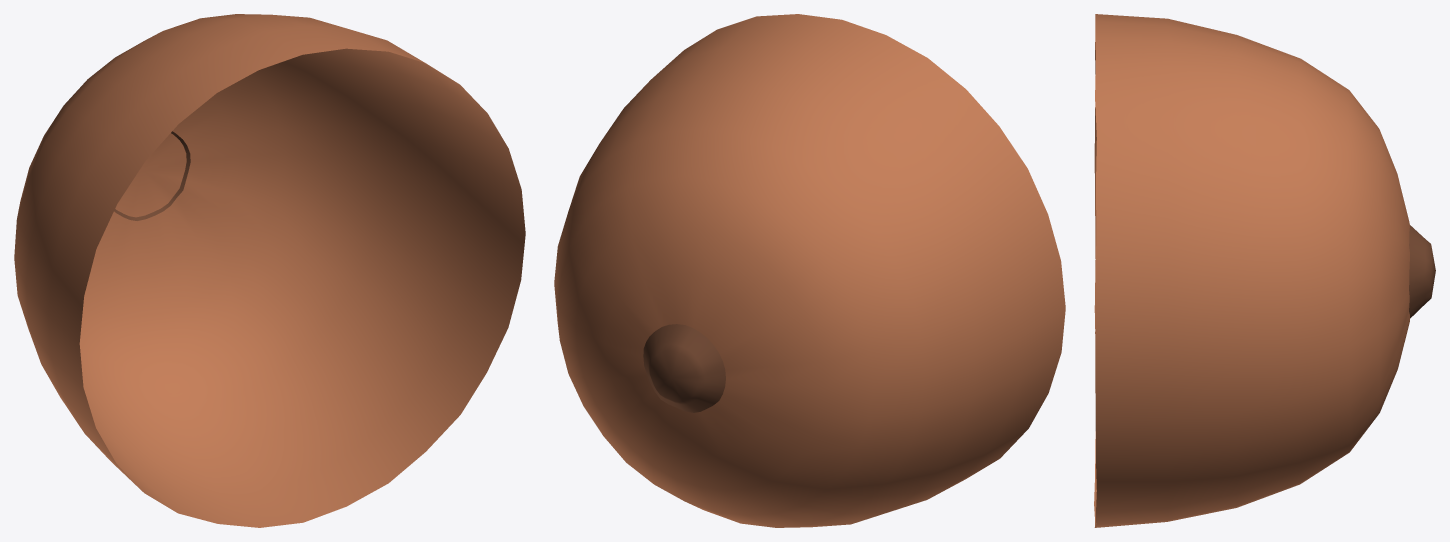
The model's file is Kiwi_Half_1.fbx.
3 renders of one model, left to right at view 1: azimuth 30°, elevation 25°; view 2: azimuth 150°, elevation 25°; view 3: azimuth 270°, elevation 25°, orthographic.
Parts seen in each view (by area): view 1: Sphere.019; view 2: Sphere.019; view 3: Sphere.019.
Part boxes in pixels (box(x1,y1,x2,y2)): Sphere.019: box(14, 14, 525, 527); Sphere.019: box(554, 14, 1065, 527); Sphere.019: box(1094, 14, 1435, 527).
Bounding box in the file's own units: 94.35 × 94.43 × 62.79.
